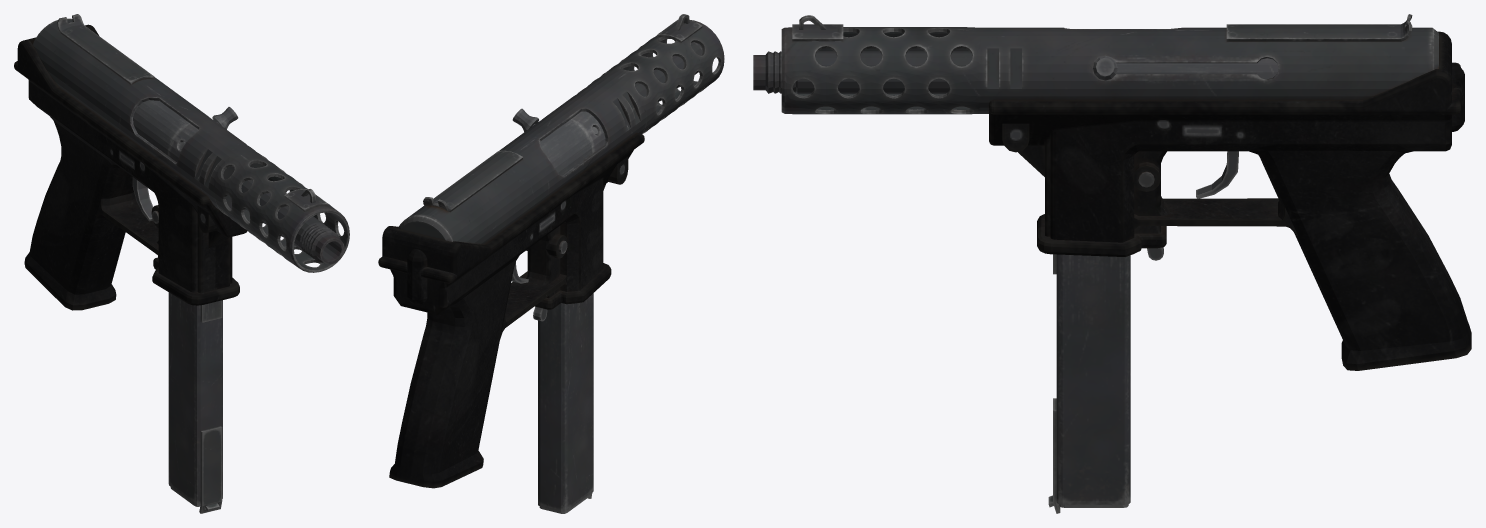
File: tec_9.obj
The picture shows the model from 3 angles, left to right: view 1: azimuth 30°, elevation 25°; view 2: azimuth 150°, elevation 25°; view 3: azimuth 270°, elevation 25°; orthographic projection. The views are drawn at different scales.
Parts seen in each view (by area): view 1: Object.1, Object.4, Object.10, Object.14, Object.5, Object.7, Object.12, Object.6, Object.9, Object.13; view 2: Object.1, Object.4, Object.10, Object.14, Object.5, Object.8, Object.6, Object.7; view 3: Object.1, Object.4, Object.10, Object.7, Object.5, Object.14, Object.6.
Part boxes in pixels (x1,y1,x2,y2): Object.1: [14, 24, 247, 310]; Object.4: [32, 18, 349, 272]; Object.10: [168, 292, 222, 504]; Object.14: [133, 100, 238, 162]; Object.5: [57, 14, 154, 84]; Object.7: [228, 180, 344, 264]; Object.12: [199, 426, 222, 513]; Object.6: [284, 189, 328, 211]; Object.9: [132, 177, 153, 221]; Object.13: [200, 300, 222, 322]; Object.1: [378, 133, 644, 488]; Object.4: [405, 20, 724, 244]; Object.10: [538, 293, 593, 511]; Object.14: [512, 108, 605, 175]; Object.5: [423, 150, 523, 212]; Object.8: [398, 215, 452, 241]; Object.6: [657, 14, 702, 42]; Object.7: [635, 42, 702, 101]; Object.1: [989, 31, 1471, 370]; Object.4: [781, 27, 1432, 114]; Object.10: [1056, 254, 1130, 504]; Object.7: [753, 51, 972, 93]; Object.5: [1226, 14, 1412, 41]; Object.14: [1093, 55, 1278, 80]; Object.6: [792, 15, 843, 41].
Size of the model in its own units: 139 by 642 by 850.
